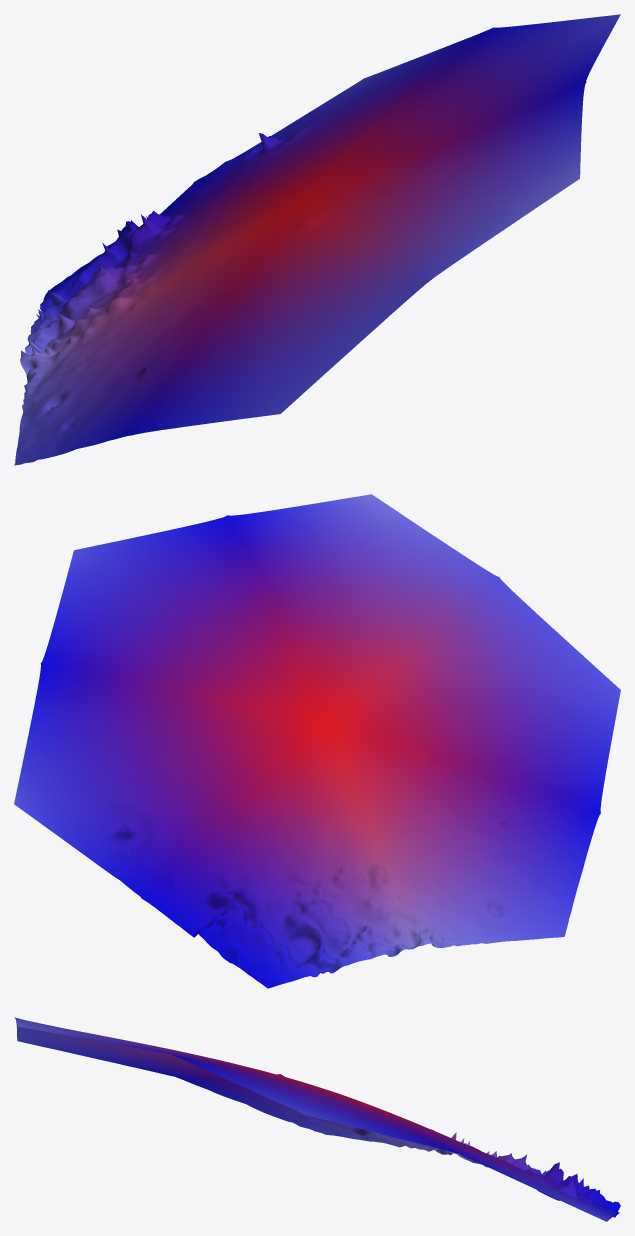
The model's file is Hex_32.fbx.
3 views of the same model, one above another, from view 1: azimuth 30°, elevation 25°; view 2: azimuth 150°, elevation 25°; view 3: azimuth 270°, elevation 25° (orthographic). The views are drawn at different scales.
Parts seen in each view (by area): view 1: Hex_32; view 2: Hex_32; view 3: Hex_32.
Part boxes in pixels (x1,y1,x2,y2): Hex_32: (14, 14, 620, 465); Hex_32: (14, 494, 620, 988); Hex_32: (14, 1017, 620, 1221).
Bounding box in the file's own units: 451 × 235 × 434.
